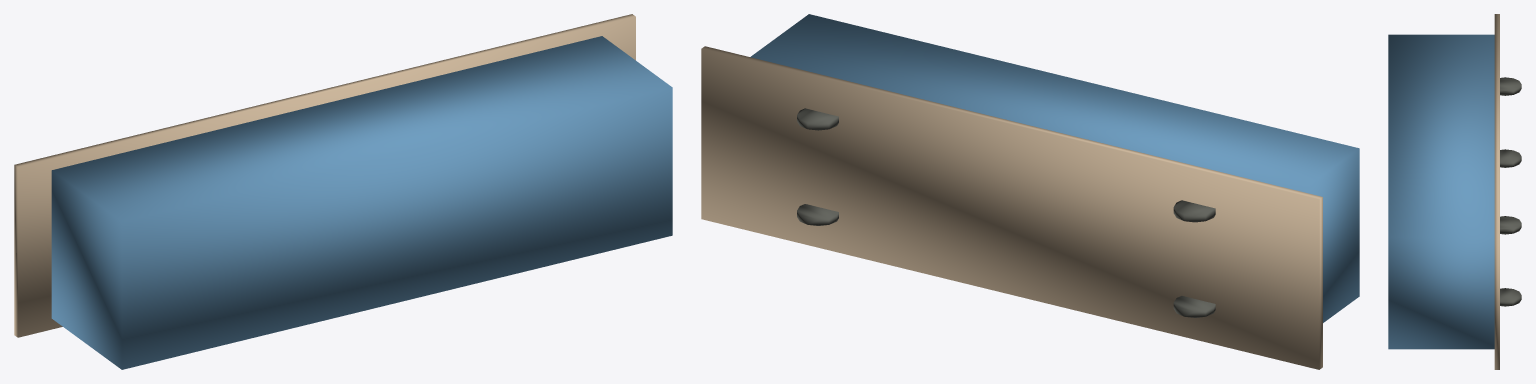
File: asset34.glb
3 renders of one model, left to right at view 1: azimuth 30°, elevation 25°; view 2: azimuth 150°, elevation 25°; view 3: azimuth 270°, elevation 25°, orthographic. The views are drawn at different scales.
Parts seen in each view (by area): view 1: Cube1, Cube1_sep7; view 2: Cube1_sep7, Cube1, Cylinder3_copy5, Cylinder3_copy6, Cylinder3, Cylinder3_copy4; view 3: Cube1, Cube1_sep7, Cylinder3_copy6, Cylinder3_copy5, Cylinder3_copy4, Cylinder3.
Part boxes in pixels (box(x1,y1,x2,y2)): Cube1: box(51, 36, 672, 369); Cube1_sep7: box(14, 14, 635, 337); Cube1_sep7: box(701, 46, 1322, 369); Cube1: box(750, 14, 1359, 322); Cylinder3_copy5: box(1173, 200, 1215, 222); Cylinder3_copy6: box(1173, 296, 1215, 317); Cylinder3: box(797, 108, 838, 130); Cylinder3_copy4: box(797, 204, 838, 225); Cube1: box(1388, 34, 1494, 349); Cube1_sep7: box(1494, 14, 1499, 369); Cylinder3_copy6: box(1500, 149, 1521, 167); Cylinder3_copy5: box(1500, 77, 1521, 95); Cylinder3_copy4: box(1500, 288, 1521, 306); Cylinder3: box(1500, 216, 1521, 234).
Size of the model in its own units: 1 by 0.2636 by 0.2472.
